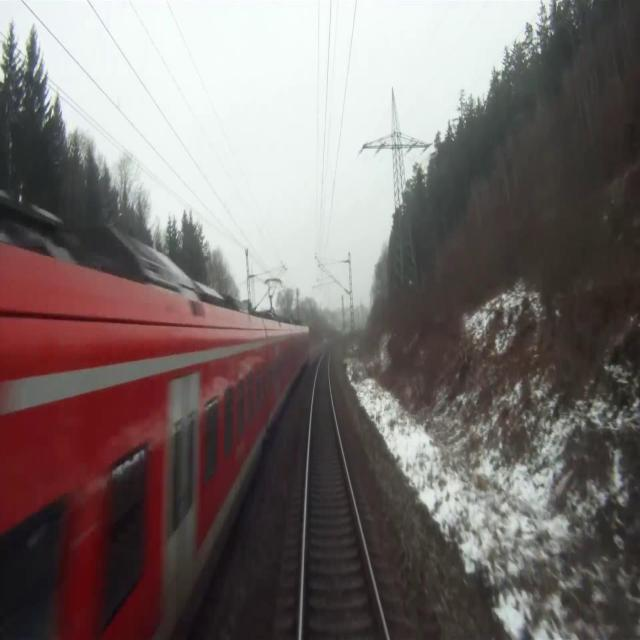rail-track: (303, 351, 385, 639)
